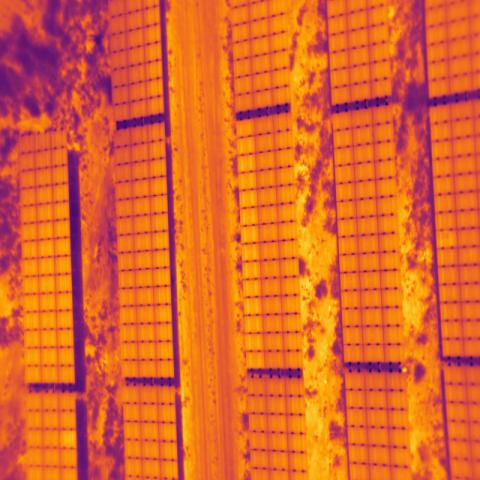fault: (236, 119, 265, 369)
